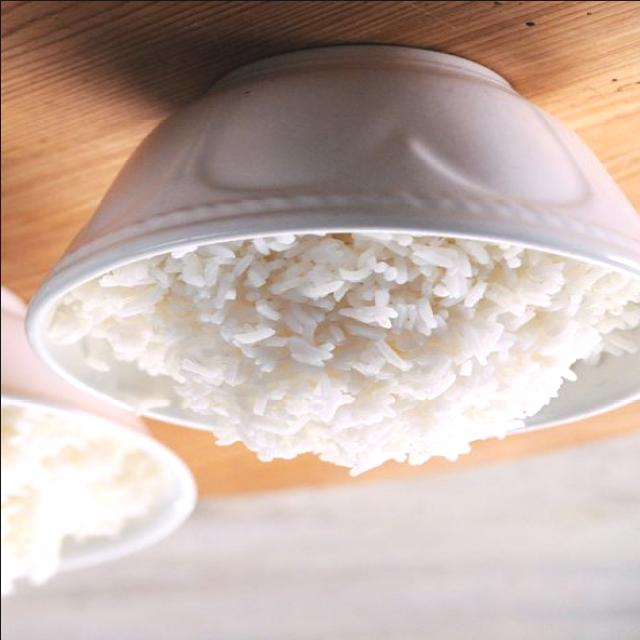nasi: (26, 226, 640, 475)
